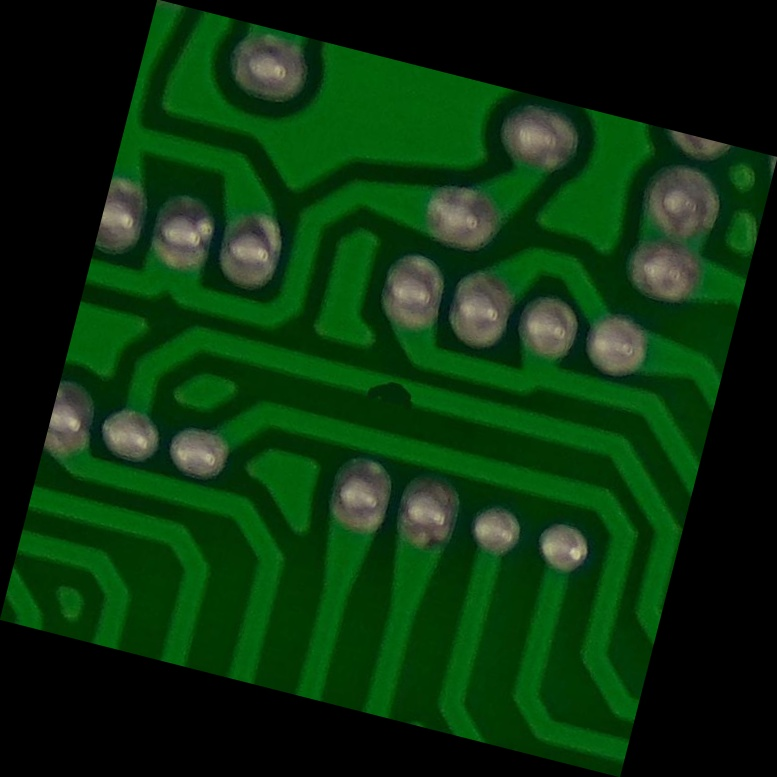mouse_bite: (344, 352, 434, 426)
